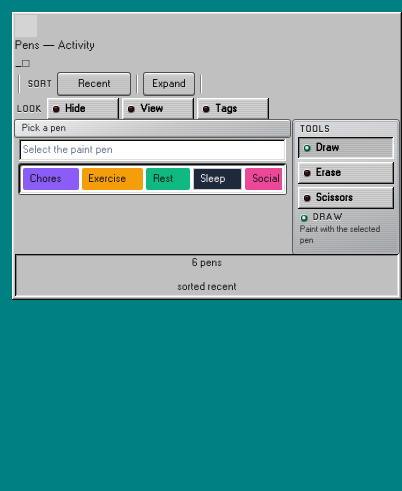
Test case: Tracking tools tray › keeps Hide, View, and Tags independent of Draw and does not resize paint keys
The image size is (402, 491).
Click the button "Hide": (83,109) [47,98,119,120]
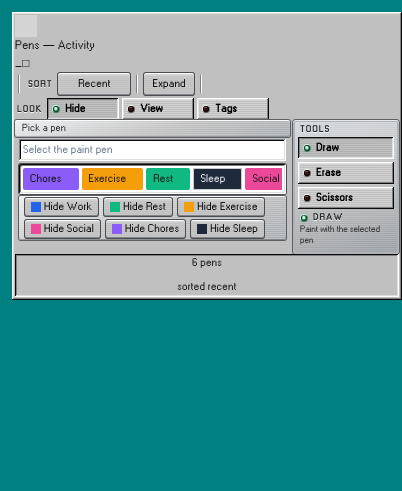
Check: the element with class "trk-pen-tray" is shown, box [15,120,290,243]
Check: the button "Hide" is pressed, box [47,98,119,120]
Click the button "Tags": (233,109) [197,98,269,120]
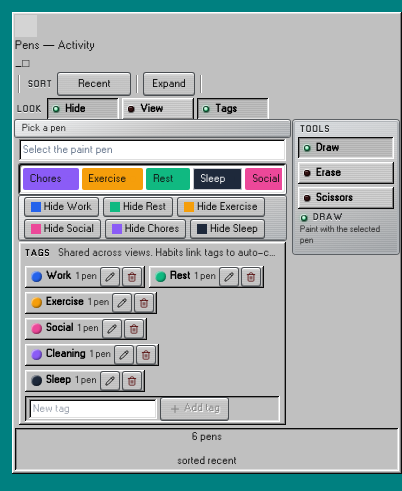
Check: the button "Tags" is pressed, box [197,98,269,120]
Click the button "Scissors": (346,198) [298,187,394,209]
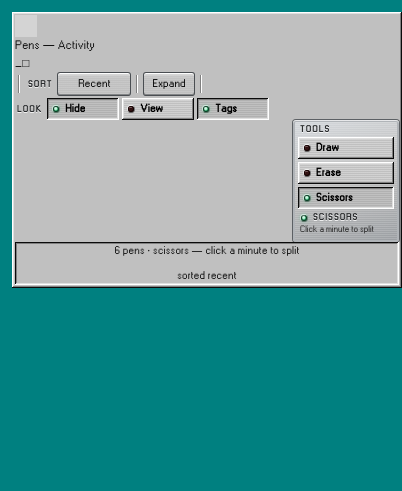
Click the button "Erase": (346,173) [298,162,394,184]
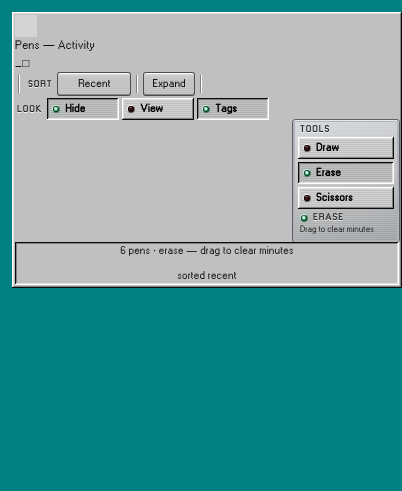
Check: the 7th element with class "trk-jewel" is shown, box [300,214,308,222]
Check: the element with class "trk-tool-detail" shows "Drag to clear minutes", box [300,225,374,234]
